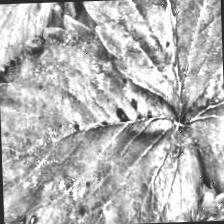Leaf Spot: (0, 9, 204, 224), (71, 0, 224, 125), (0, 1, 74, 69)
